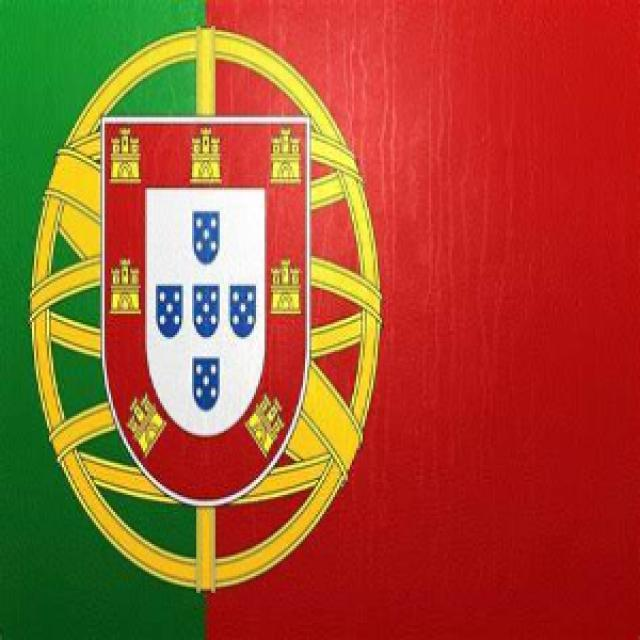portugal: (60, 80, 563, 547)
